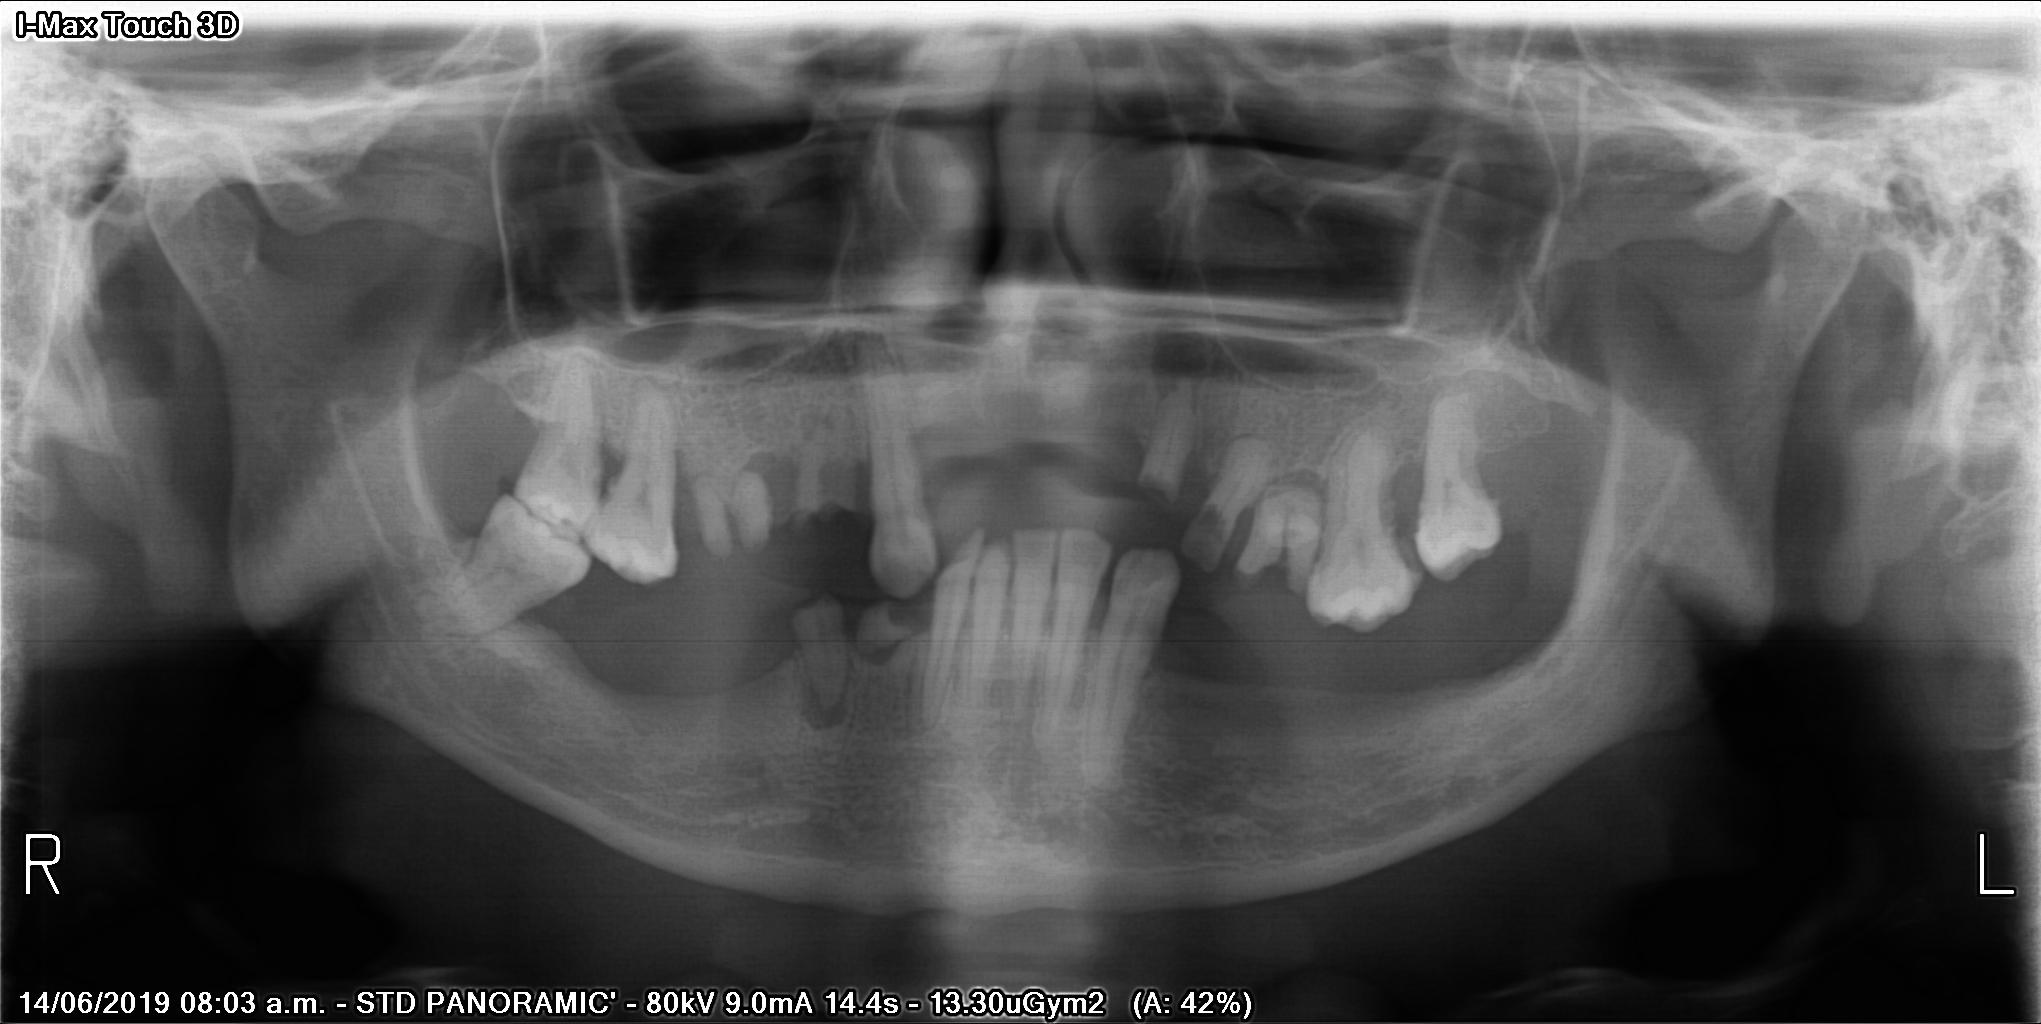Çürük Bölgesi: (1119, 552, 1177, 590), (1196, 499, 1230, 550), (1143, 473, 1180, 505)
